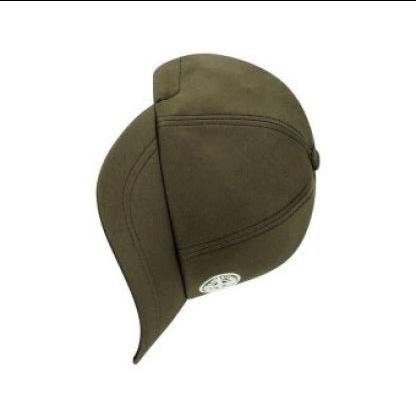cap: (89, 38, 329, 376)
